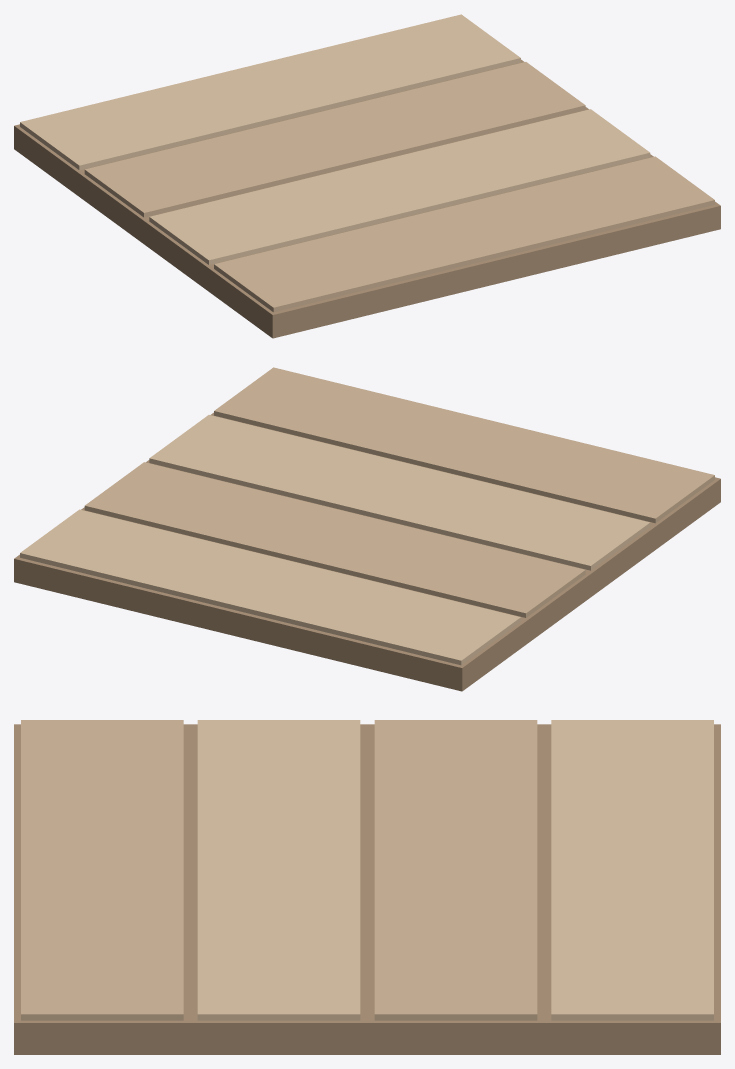
Rendered from environment_floor_tile.glb.
The picture shows the model from 3 angles, top to bottom: view 1: azimuth 30°, elevation 25°; view 2: azimuth 150°, elevation 25°; view 3: azimuth 270°, elevation 25°; orthographic projection. The views are drawn at different scales.
Parts seen in each view (by area): view 1: FloorTile; view 2: FloorTile; view 3: FloorTile.
Boxes of the visible parts, left/top/right/bottom form: FloorTile: left=14, top=14, right=720, bottom=338; FloorTile: left=14, top=367, right=720, bottom=691; FloorTile: left=14, top=720, right=720, bottom=1054.
Size of the model in its own units: 1 by 0.06 by 1.
